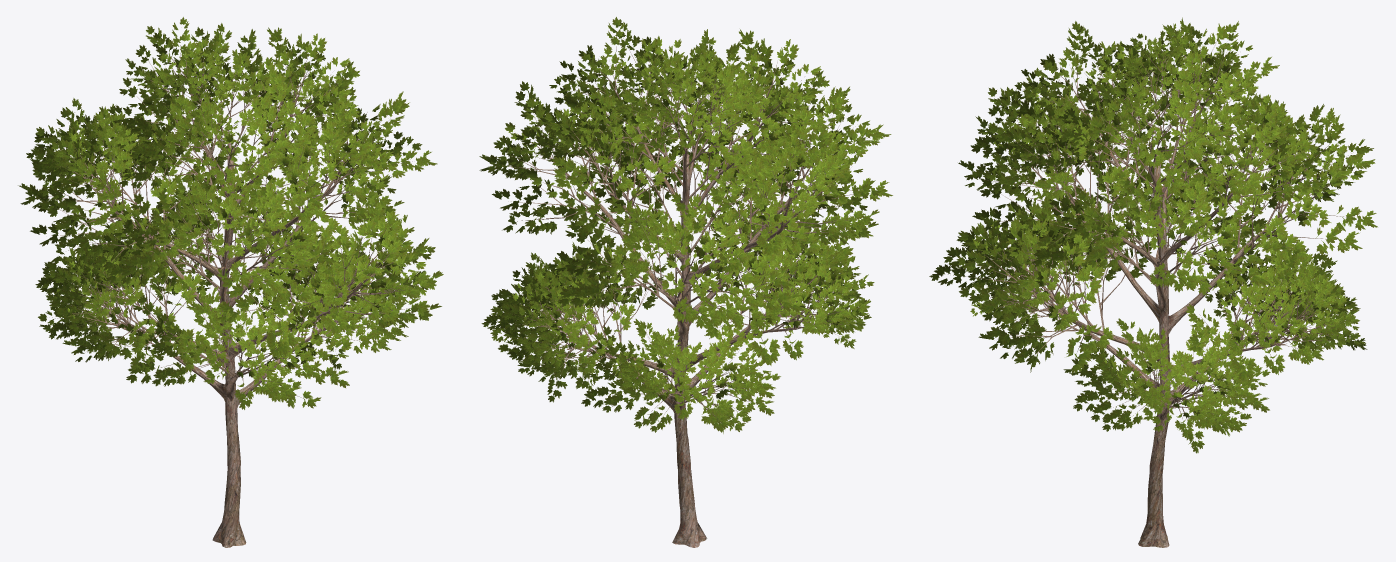
File: Maple7.obj
The picture shows the model from 3 angles, left to right: view 1: azimuth 30°, elevation 25°; view 2: azimuth 150°, elevation 25°; view 3: azimuth 270°, elevation 25°; orthographic projection.
Parts seen in each view (by area): view 1: leaf maple, bark02; view 2: leaf maple, bark02; view 3: leaf maple, bark02.
Boxes of the visible parts, x1=… form: leaf maple: x1=18, y1=17, x2=443, y2=409; bark02: x1=36, y1=45, x2=418, y2=547; leaf maple: x1=479, y1=17, x2=892, y2=433; bark02: x1=496, y1=36, x2=867, y2=547; leaf maple: x1=929, y1=17, x2=1377, y2=453; bark02: x1=953, y1=36, x2=1353, y2=547.
Size of the model in its own units: 634 by 812 by 654.
Materials: 2 (2 with a texture image).
